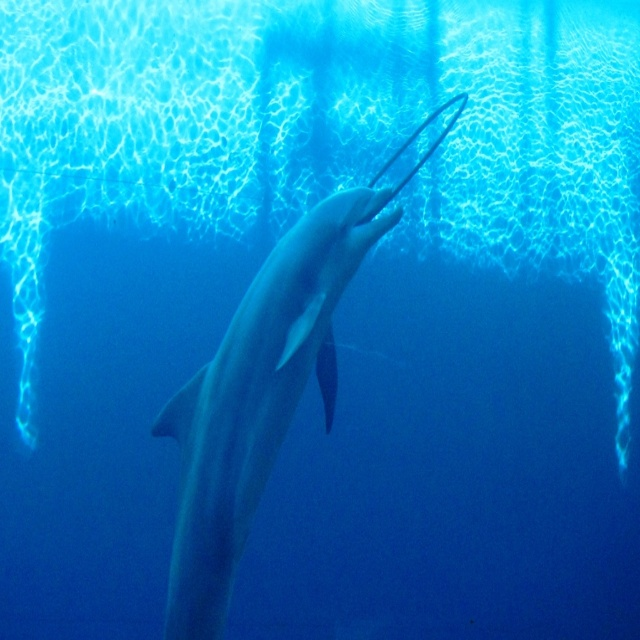Fish: (151, 93, 469, 640)
